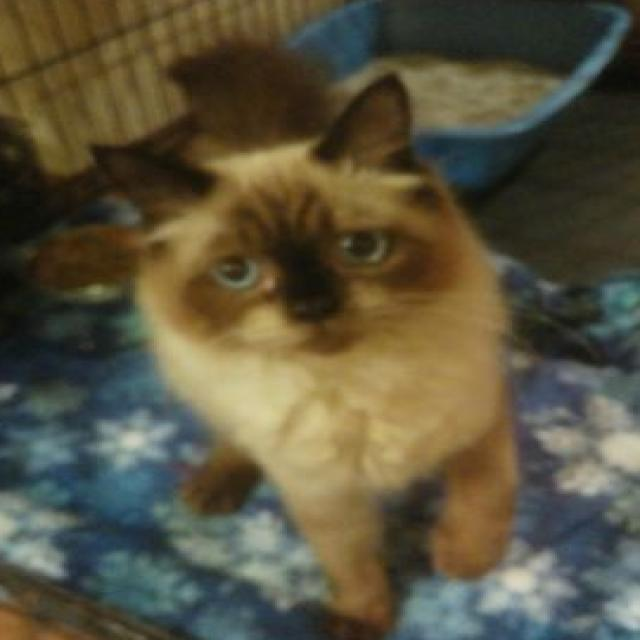Birman: (80, 35, 533, 640)
